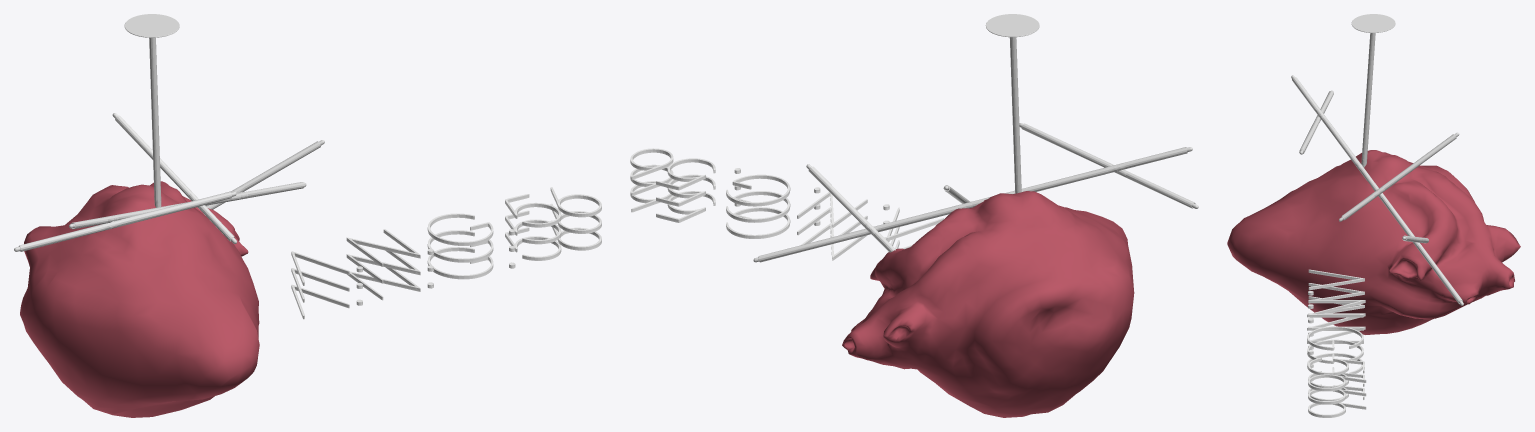
File: Project Name.gltf
3 views of the same model, side by side, from view 1: azimuth 30°, elevation 25°; view 2: azimuth 150°, elevation 25°; view 3: azimuth 270°, elevation 25° (orthographic). The views are drawn at different scales.
Visible parts, largest first — view 1: Heart, 56b 3 (×3), Billy_Cotton_Pick_Up_5_Stick_mat(1); view 2: Heart, Billy_Cotton_Pick_Up_5_Stick_mat(1), 56b 3 (×3); view 3: Heart, 56b 3 (×3), Billy_Cotton_Pick_Up_5_Stick_mat(1).
Boxes of the visible parts, x1,y1,x2,y2 form: Heart: [20, 181, 259, 417]; 56b 3 (×3): [291, 187, 601, 319]; Billy_Cotton_Pick_Up_5_Stick_mat(1): [14, 14, 324, 251]; Heart: [842, 191, 1134, 417]; Billy_Cotton_Pick_Up_5_Stick_mat(1): [753, 14, 1198, 262]; 56b 3 (×3): [630, 148, 943, 260]; Heart: [1227, 150, 1520, 334]; 56b 3 (×3): [1307, 269, 1366, 417]; Billy_Cotton_Pick_Up_5_Stick_mat(1): [1291, 14, 1463, 305].
Size of the model in its own units: 0.0819 by 0.0518 by 0.0449.
5 materials, 3 textured.
